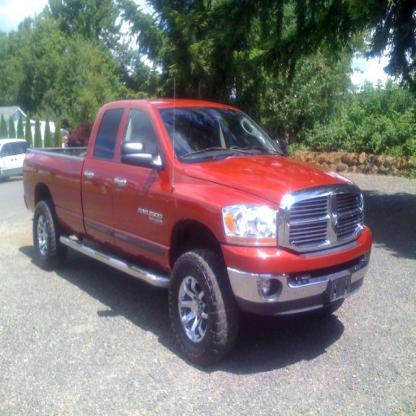Vehicle: (25, 100, 372, 365)
